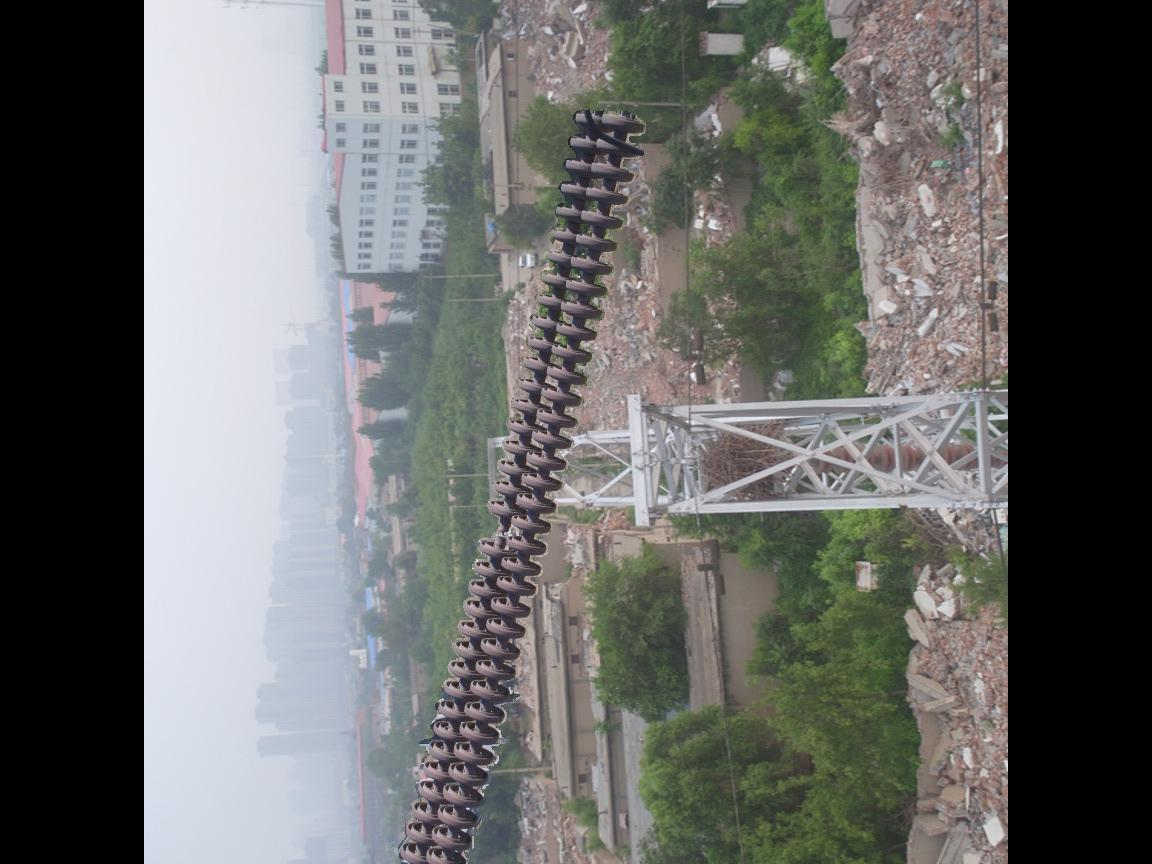insulator: (388, 102, 650, 864), (805, 435, 1000, 481)
insulator_stringdrop: (475, 497, 526, 562)
